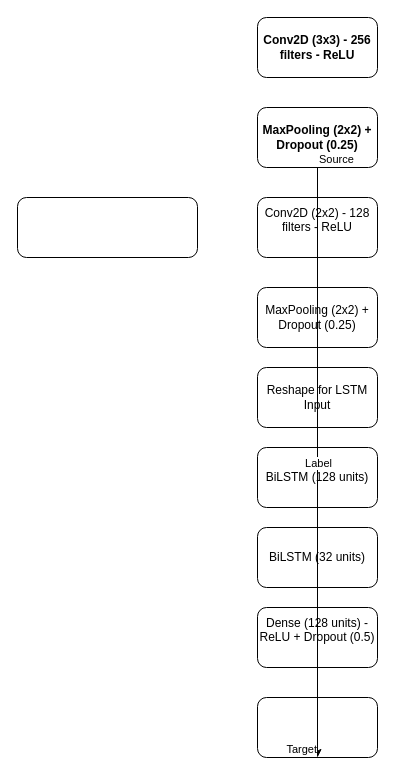
This 395x783 diagram has some shape labels left out. Here are the shapes that lost their labels. From the top down, the centre of each, then its label:
At pixel 107 227: "Input Layer (17, 11, 1)".
At pixel 317 727: "Output Layer (5 classes) - Softmax".
